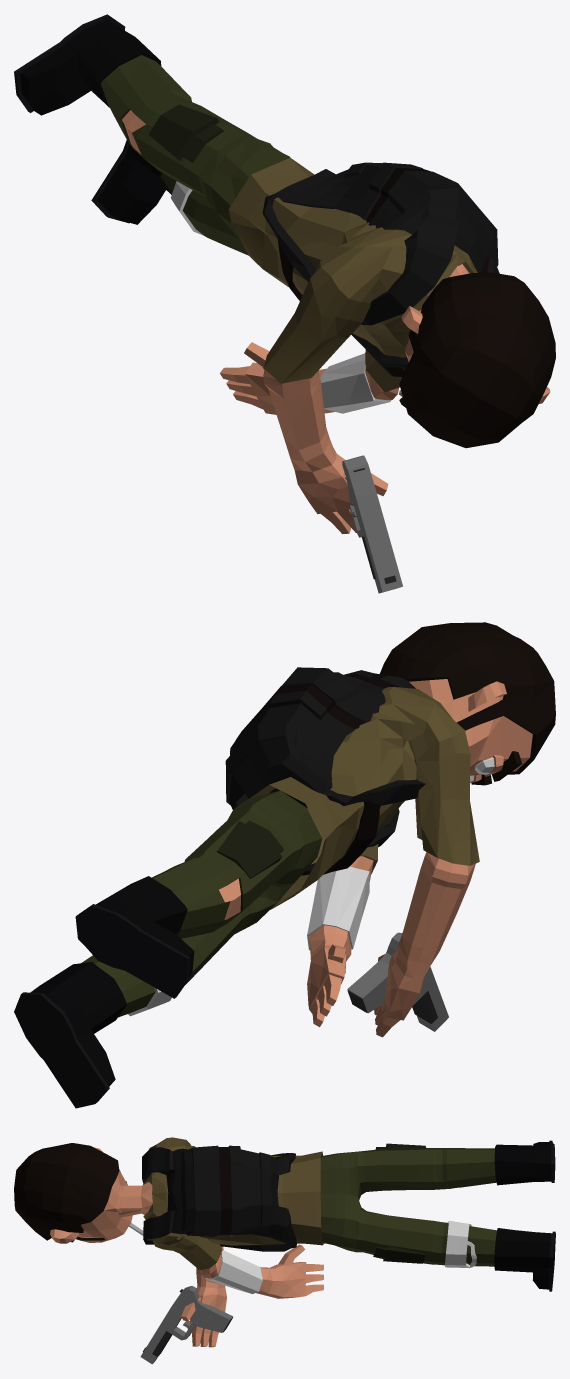
The model's file is frame_0023.obj.
The picture shows the model from 3 angles, top to bottom: view 1: azimuth 30°, elevation 25°; view 2: azimuth 150°, elevation 25°; view 3: azimuth 270°, elevation 25°; orthographic projection. The views are drawn at different scales.
Parts seen in each view (by area): view 1: Body, Gun; view 2: Body, Gun; view 3: Body, Gun.
Part boxes in pixels (left/top/right/bottom): Body: left=14, top=14, right=555, bottom=534; Gun: left=342, top=455, right=402, bottom=593; Body: left=14, top=622, right=555, bottom=1108; Gun: left=347, top=932, right=448, bottom=1031; Body: left=14, top=1137, right=555, bottom=1347; Gun: left=140, top=1286, right=232, bottom=1364.
Bounding box in the file's own units: 1.29 × 2.02 × 4.15.
